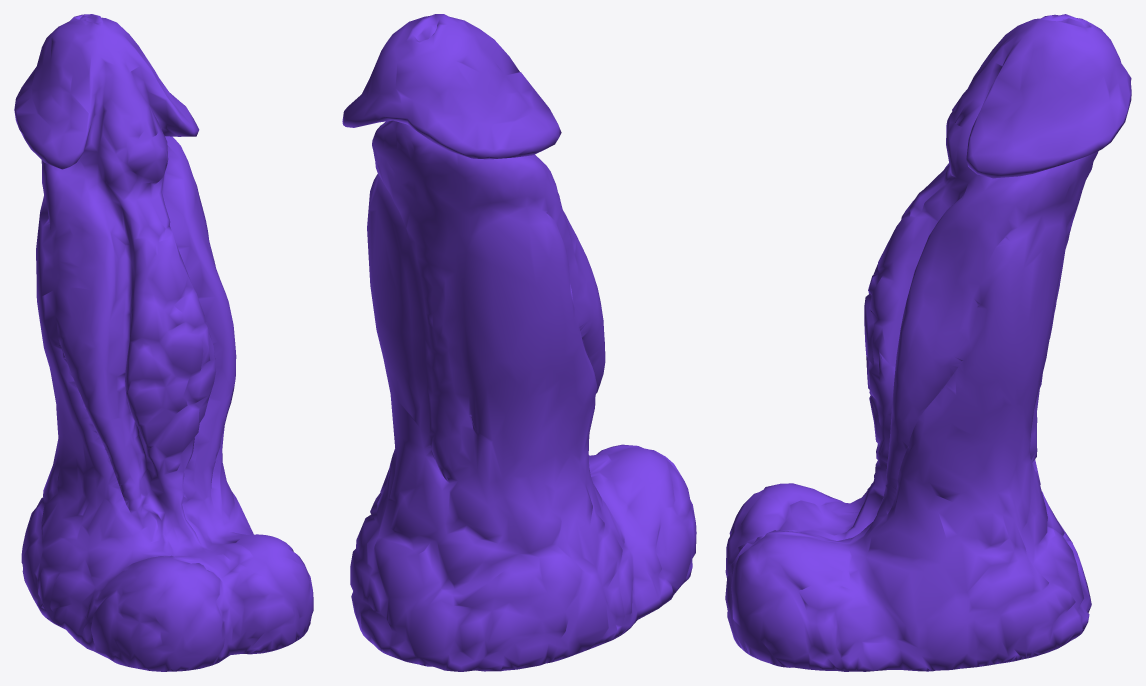
File: small-flat-ar.glb
3 views of the same model, side by side, from view 1: azimuth 30°, elevation 25°; view 2: azimuth 150°, elevation 25°; view 3: azimuth 270°, elevation 25° (orthographic). The views are drawn at different scales.
Size of the model in its own units: 0.0843 by 0.2052 by 0.1264.
